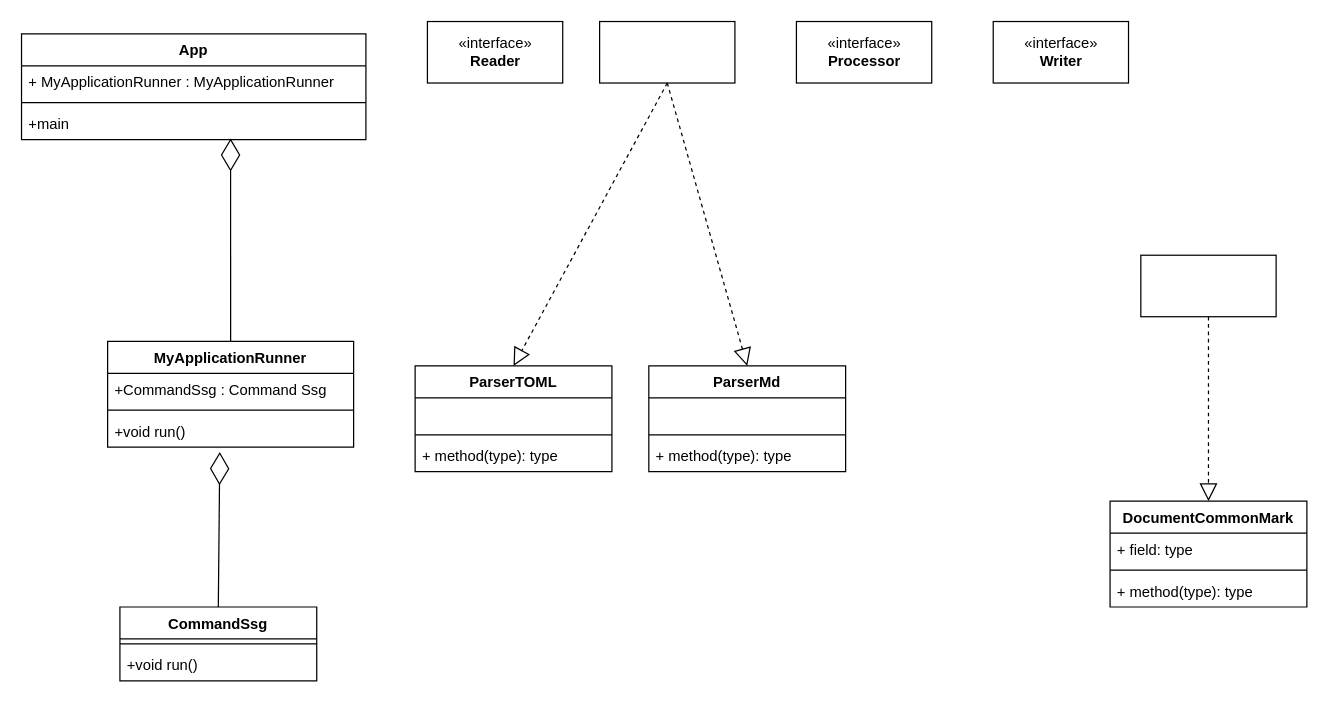
This 1328x706 diagram has some shape labels left out. The shapes that lost their labels are listed below. From the top down, each one's centre as x and y in pixels, then its label:
At point 666,51: "«interface» Parser".
At point 1208,285: "«interface» Document".
